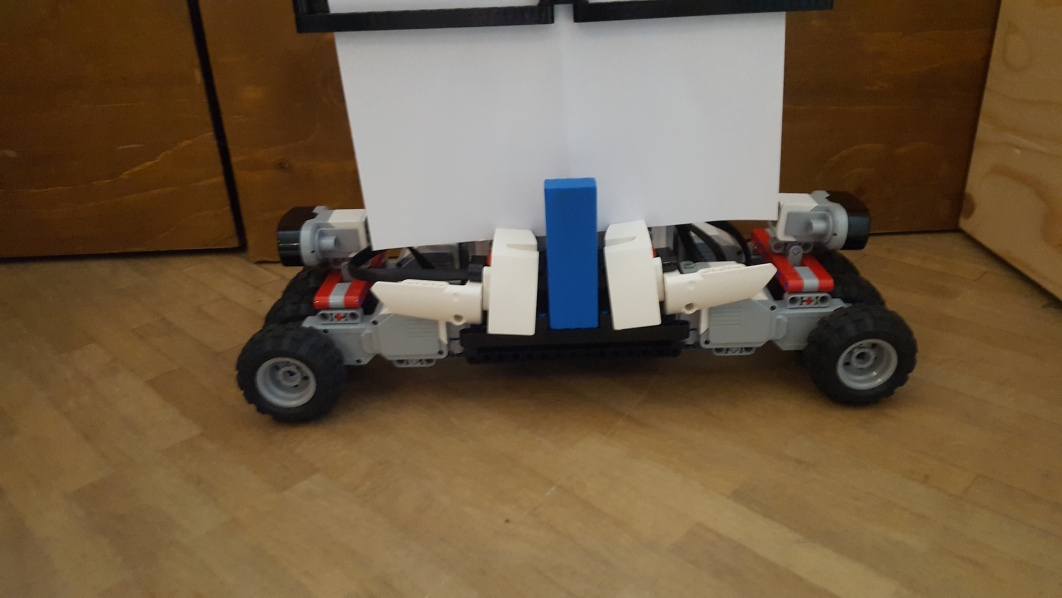car: (233, 2, 918, 424)
